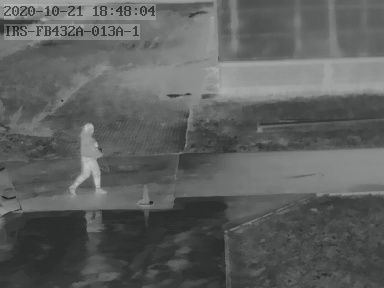person: (73, 123, 105, 191)
